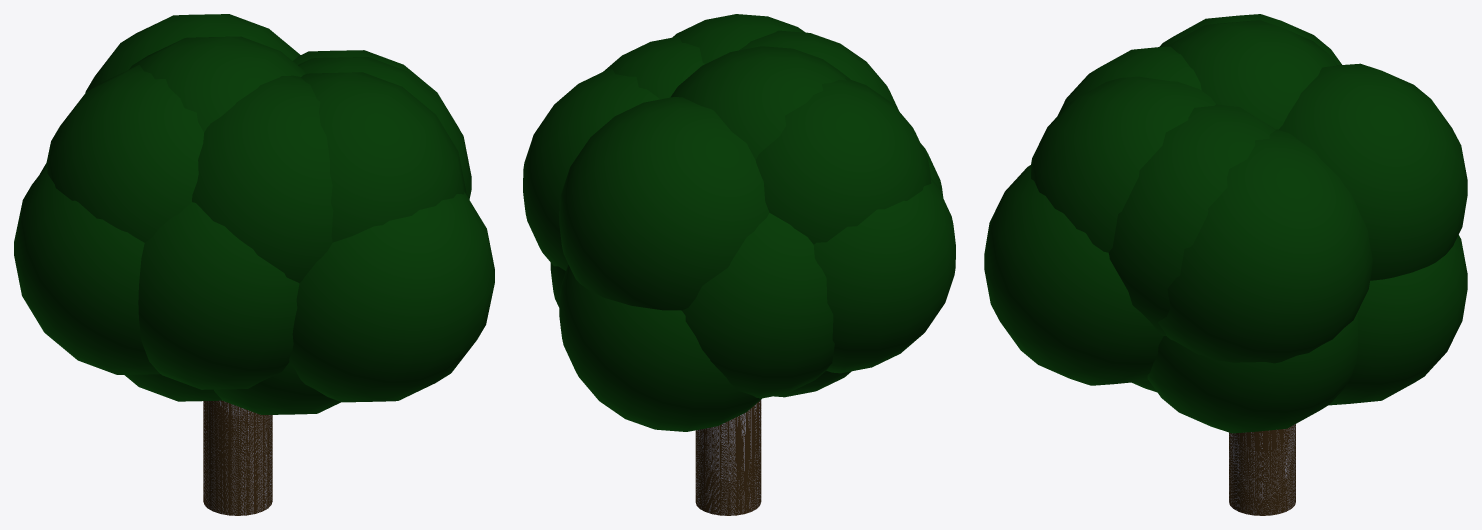
The picture shows the model from 3 angles, left to right: view 1: azimuth 30°, elevation 25°; view 2: azimuth 150°, elevation 25°; view 3: azimuth 270°, elevation 25°; orthographic projection. The views are drawn at different scales.
Parts seen in each view (by area): view 1: sphere (×12), group_0; view 2: sphere (×11), group_0; view 3: sphere (×10), group_0.
Boxes of the visible parts, x1=… form: sphere (×12): x1=14, y1=14, x2=494, y2=414; group_0: x1=203, y1=400, x2=272, y2=515; sphere (×11): x1=523, y1=14, x2=955, y2=431; group_0: x1=695, y1=400, x2=761, y2=515; sphere (×10): x1=984, y1=14, x2=1467, y2=433; group_0: x1=1229, y1=424, x2=1295, y2=515.
Size of the model in its own units: 39.75 by 40.77 by 42.42.
